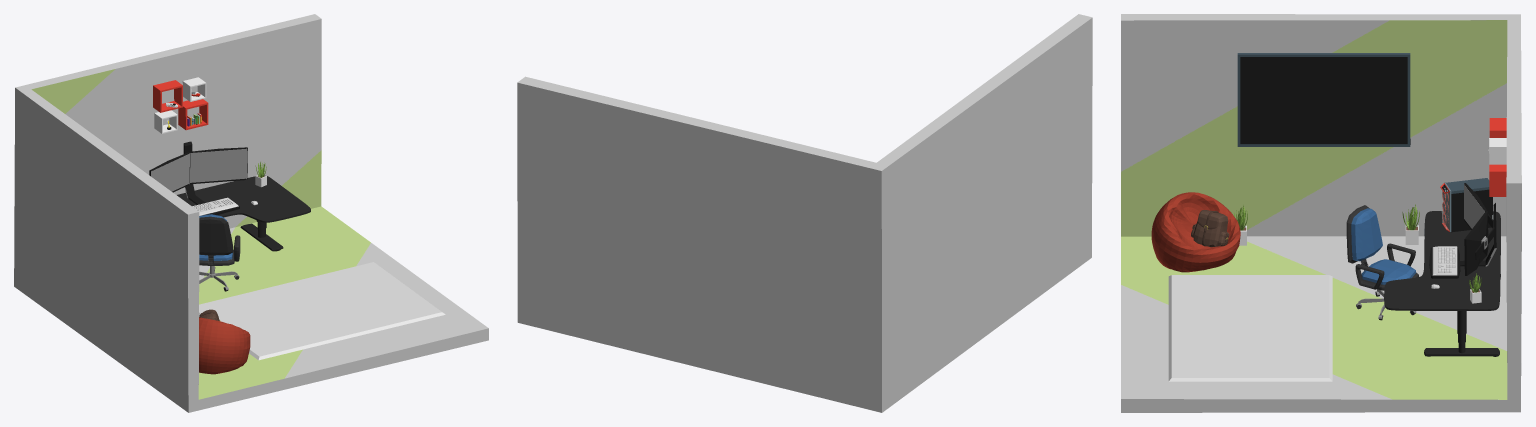
3 views of the same model, side by side, from view 1: azimuth 30°, elevation 25°; view 2: azimuth 150°, elevation 25°; view 3: azimuth 270°, elevation 25° (orthographic). The views are drawn at different scales.
Visible parts, largest first — view 1: Wall, Cube.002, Table, monitors, Node, OfficeChair, Node.001, Keyboard1; view 2: Wall; view 3: Wall, Cube.002, group1454904968, Table, Node, OfficeChair, monitors, cpu, Node.001, Backpack, Keyboard1, group1885116500.
Part boxes in pixels (x1=…): Wall: x1=14, y1=14, x2=488, y2=412; Cube.002: x1=199, y1=262, x2=445, y2=360; Table: x1=177, y1=176, x2=310, y2=251; monitors: x1=149, y1=141, x2=247, y2=215; Node: x1=199, y1=317, x2=250, y2=374; OfficeChair: x1=199, y1=214, x2=240, y2=291; Node.001: x1=153, y1=77, x2=208, y2=133; Keyboard1: x1=192, y1=197, x2=238, y2=215; Wall: x1=517, y1=14, x2=1092, y2=412; Wall: x1=1121, y1=14, x2=1521, y2=412; Cube.002: x1=1168, y1=275, x2=1332, y2=381; group1454904968: x1=1237, y1=53, x2=1410, y2=146; Table: x1=1384, y1=211, x2=1500, y2=356; Node: x1=1151, y1=192, x2=1240, y2=272; OfficeChair: x1=1346, y1=205, x2=1418, y2=320; monitors: x1=1429, y1=183, x2=1496, y2=278; cpu: x1=1440, y1=178, x2=1493, y2=232; Node.001: x1=1489, y1=118, x2=1506, y2=196; Backpack: x1=1191, y1=210, x2=1229, y2=247; Keyboard1: x1=1432, y1=246, x2=1457, y2=275; group1885116500: x1=1402, y1=204, x2=1419, y2=244.
Bounding box in the file's own units: 8.16 × 5.16 × 8.16.
